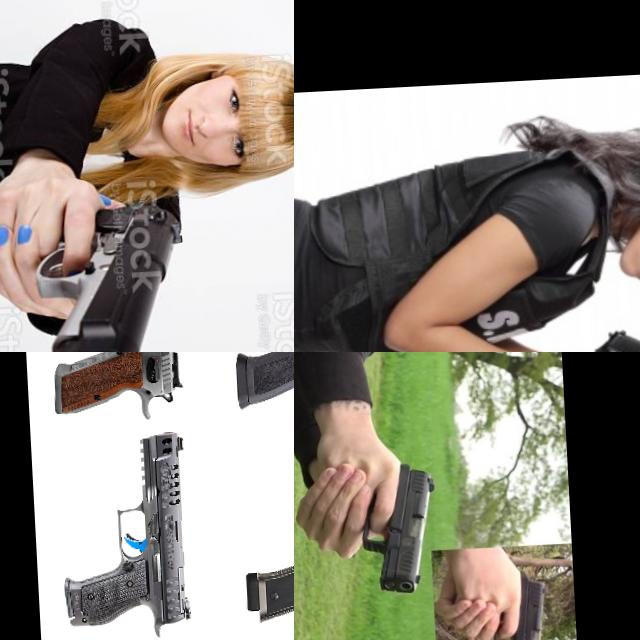handgun: (53, 429, 195, 640), (27, 197, 194, 352), (42, 352, 185, 453), (233, 422, 294, 630), (356, 462, 442, 598), (222, 352, 294, 451), (478, 566, 556, 640)
